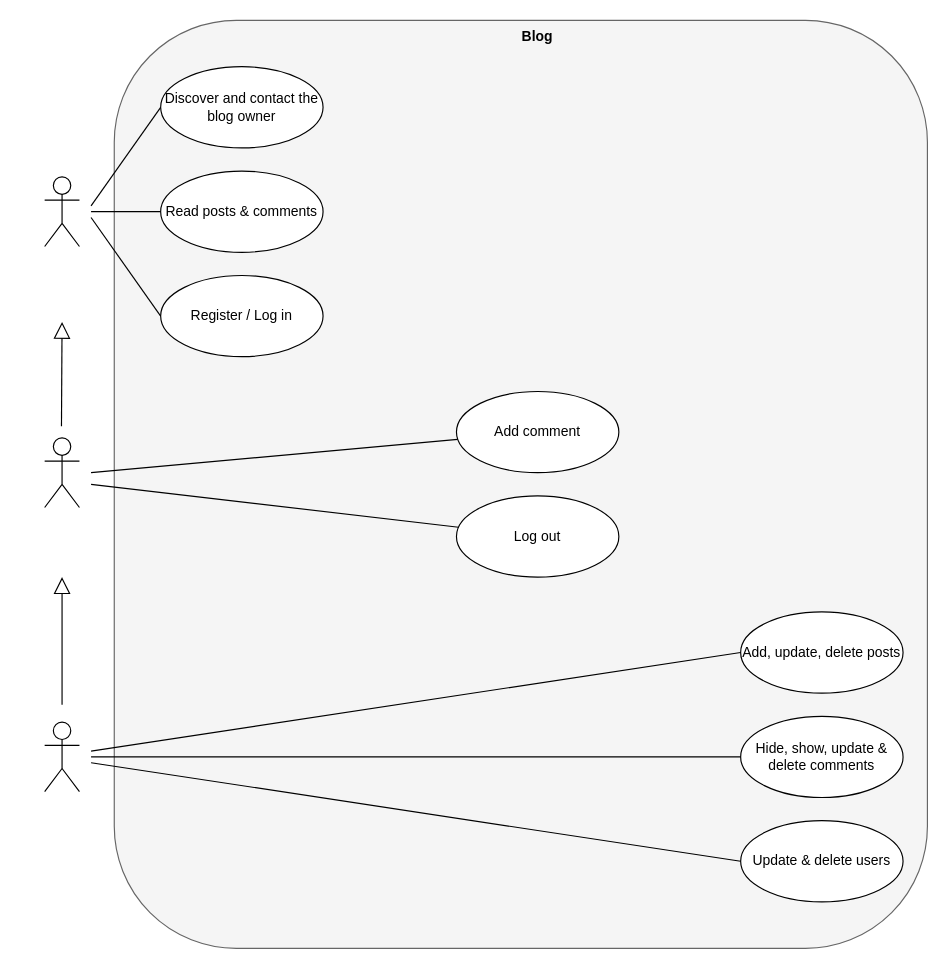
Image size: 948x978. Some labels were removed from this diagram. The shapes that lost their labels are listed below. From the top down, each one's centre as x and y in pixels, then its label:
(x=61, y=211): Anonymous Visitor
(x=61, y=472): Authenticated Visitor
(x=61, y=756): Admin
